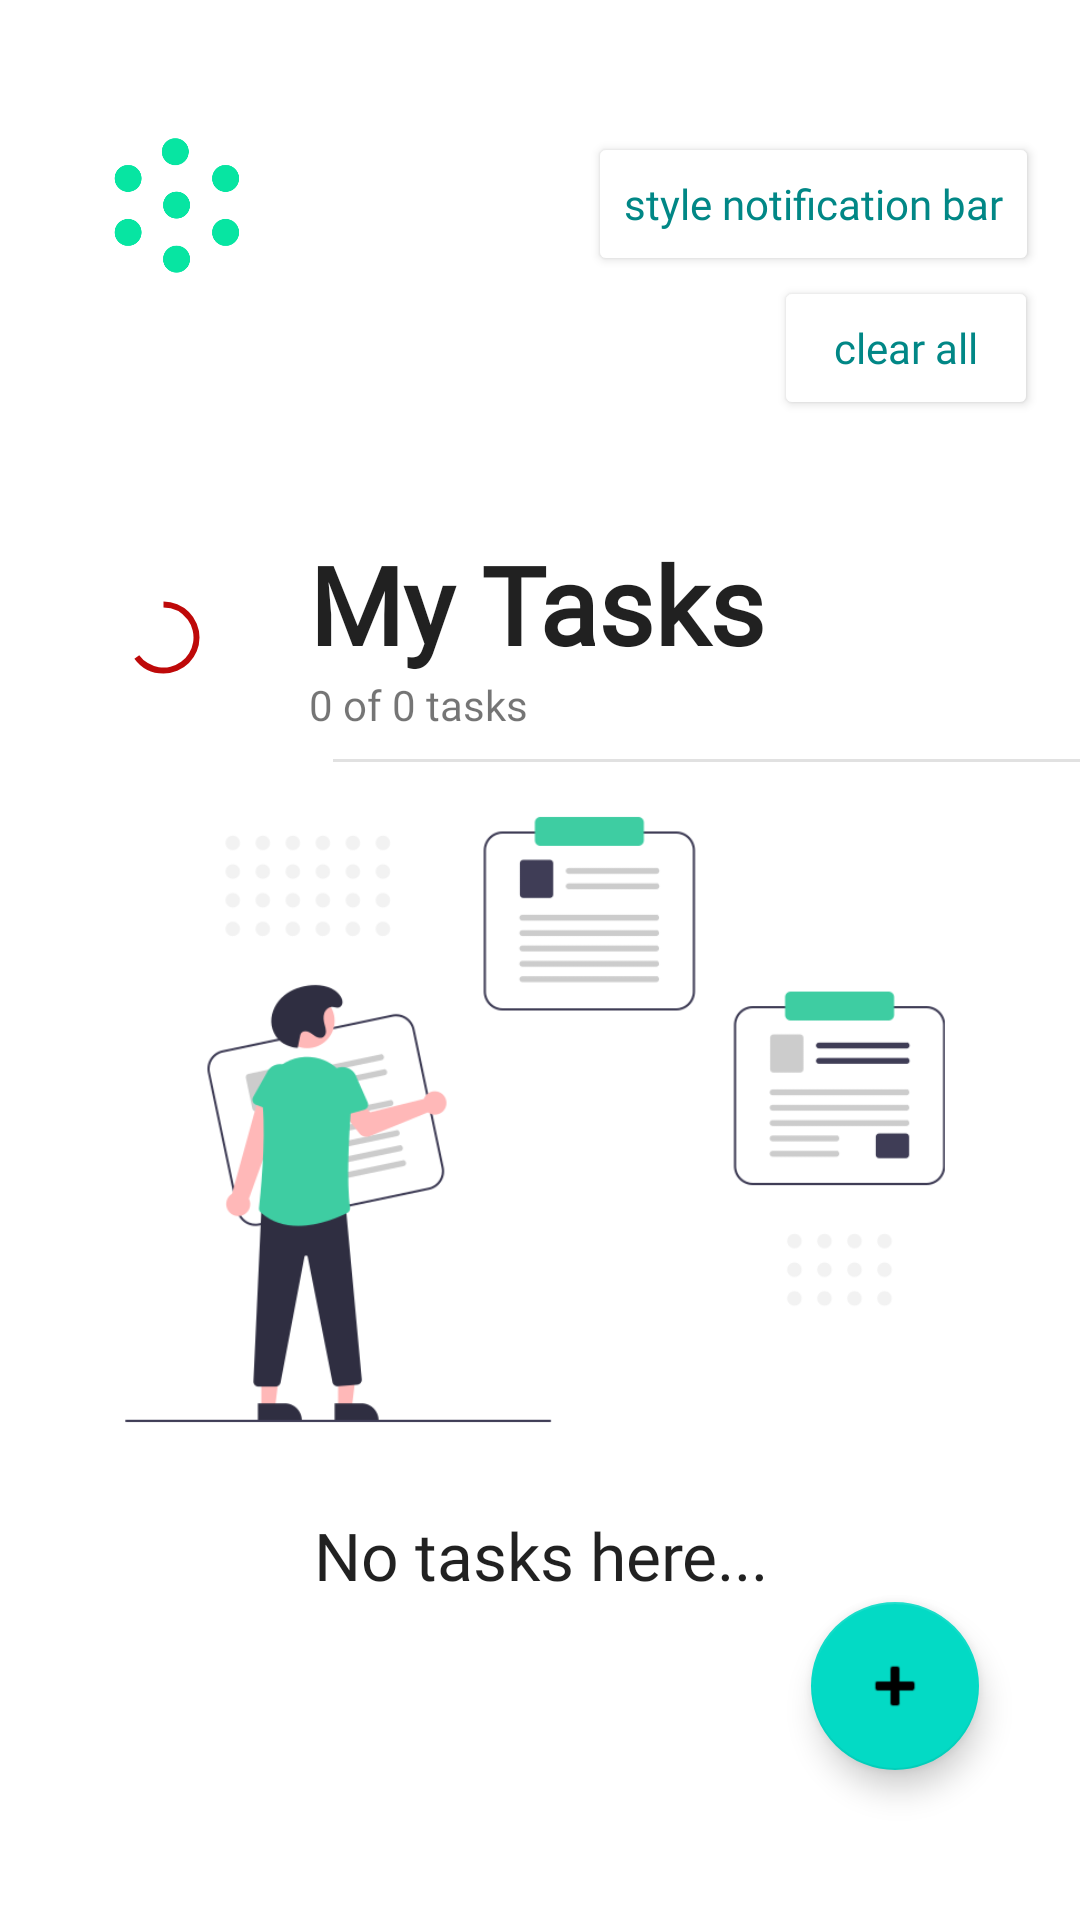

Icon click points for this 1080×1920 phone screenshot, format point (x, y):
add: point (895, 1686)
